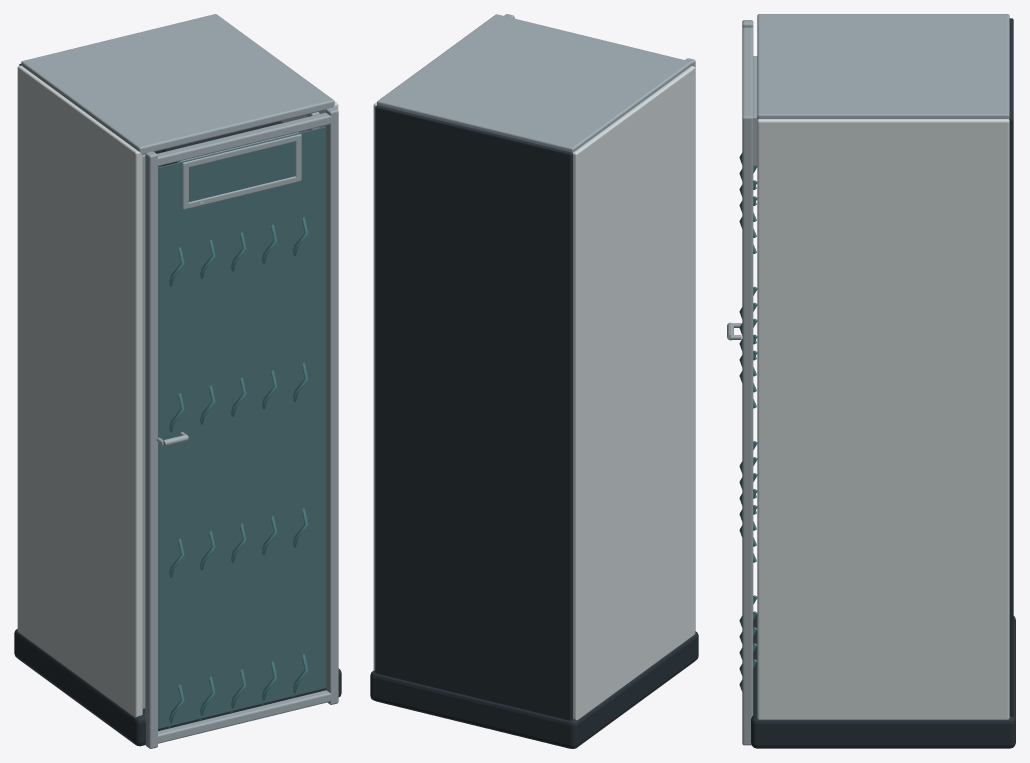
The model's file is SC_NetworkRack.fbx.
The picture shows the model from 3 angles, left to right: view 1: azimuth 30°, elevation 25°; view 2: azimuth 150°, elevation 25°; view 3: azimuth 270°, elevation 25°; orthographic projection. The views are drawn at different scales.
Visible parts, largest first — view 1: SC_NetworkRack; view 2: SC_NetworkRack; view 3: SC_NetworkRack.
Boxes of the visible parts, x1,y1,x2,y2 form: SC_NetworkRack: [14, 14, 341, 748]; SC_NetworkRack: [370, 14, 698, 748]; SC_NetworkRack: [727, 14, 1015, 748].
Size of the model in its own units: 80 by 221 by 91.6.
